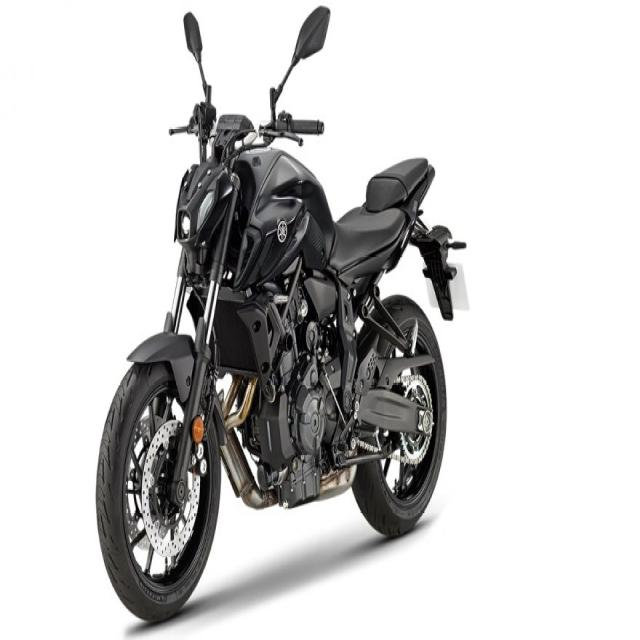Bike: (95, 6, 465, 627)
